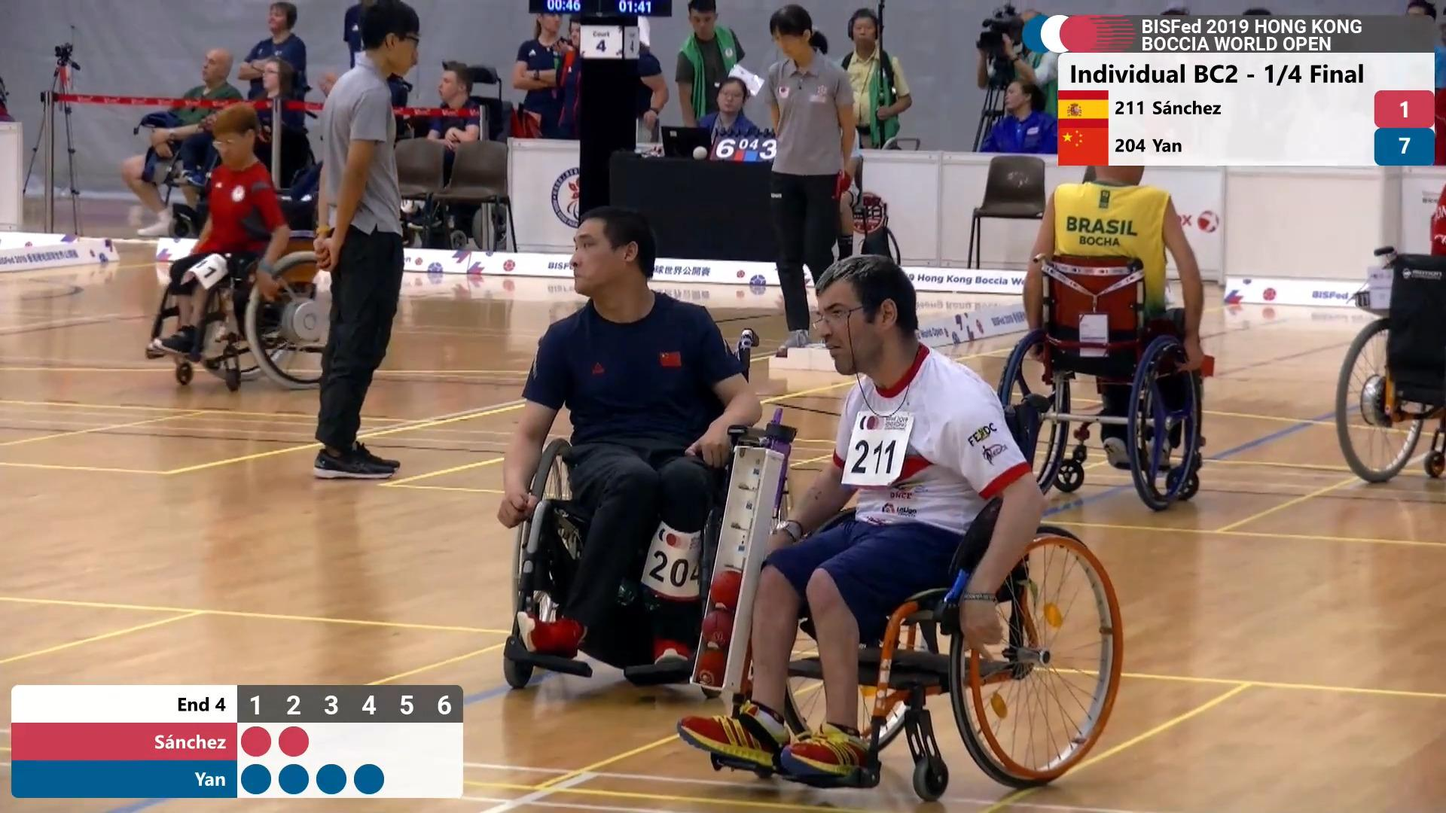red_ball: (699, 614, 741, 652), (709, 568, 745, 612), (696, 650, 733, 690)
